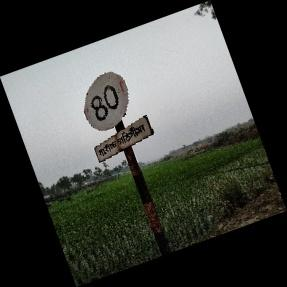Speed-limit: (84, 71, 155, 163)
